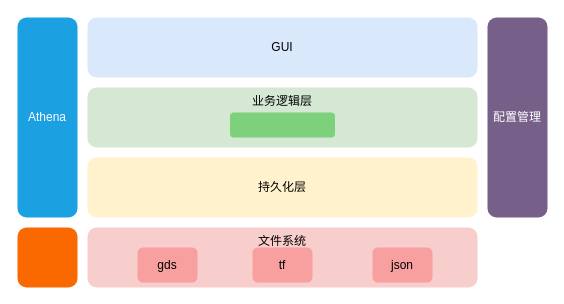
Image size: 564x304. Some labels were removed from this diagram. Here are the shapes that lost their labels. From the top down, the centre of each, then its label:
the point at 282,124: 绘图
the point at 47,257: Linux
